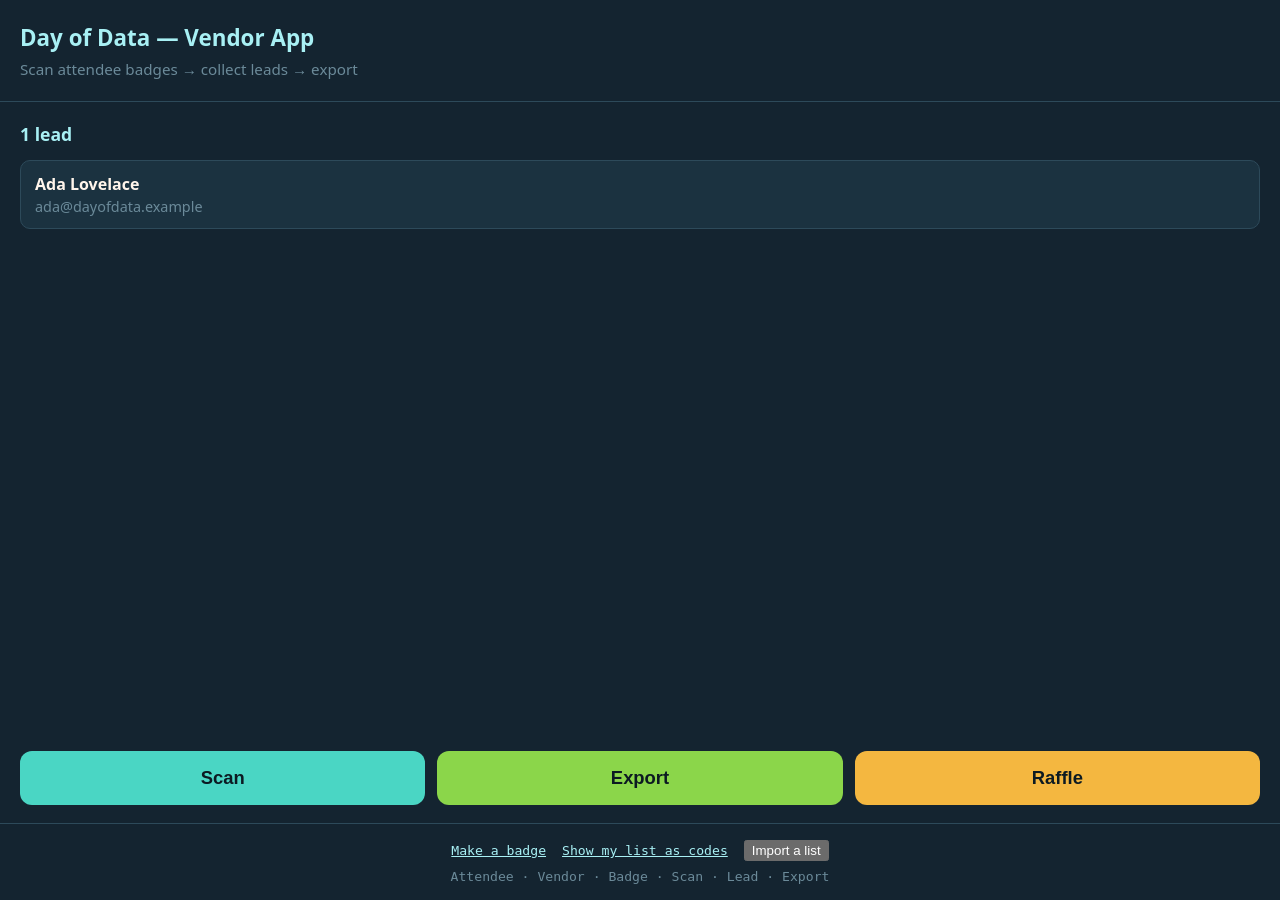
Badge Generator entry from Home › opens the Badge Generator from the footer and returns to Home with Leads intact
Expected: the text with test id "lead-count" reads "1 lead", [20,122,72,146]
Click the button "Make a badge" at point(499, 850), box [451,840,546,861]
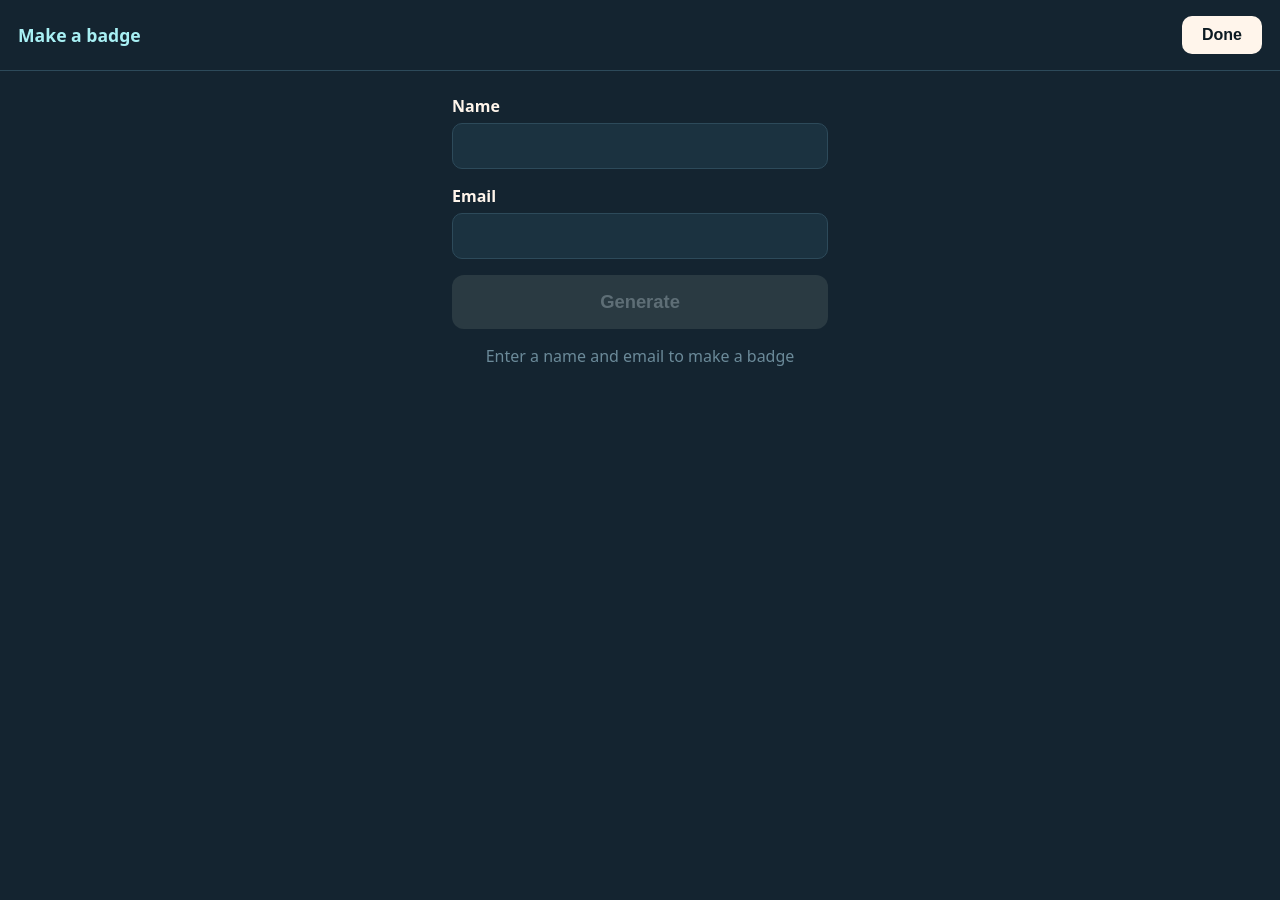
Expected: the element with test id "badge-overlay" is shown
Click the button "Done" at point(1222, 35), box [1182,16,1262,54]
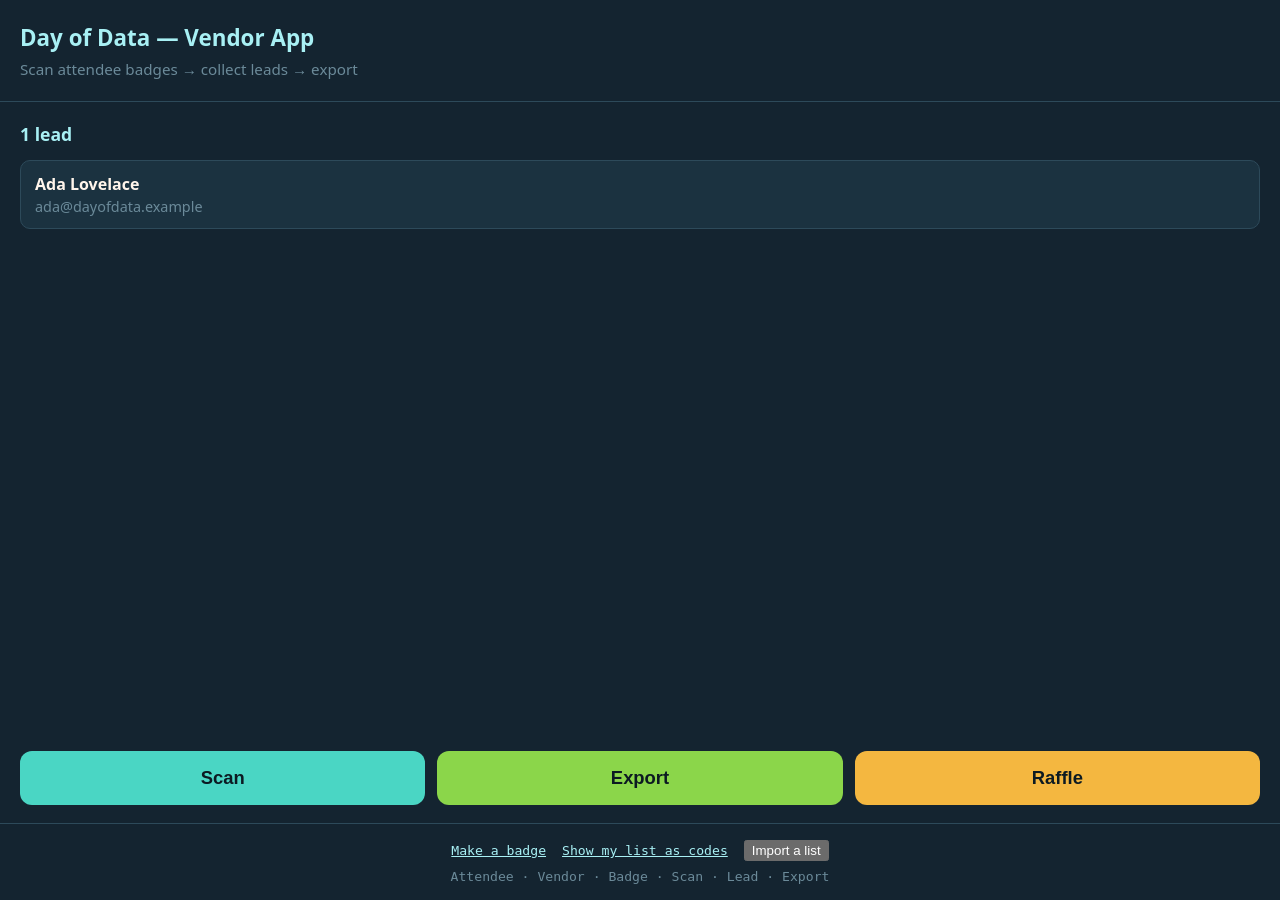
Expected: the text with test id "lead-count" reads "1 lead", [20,122,72,146]
Expected: the element with test id "badge-overlay" is gone
